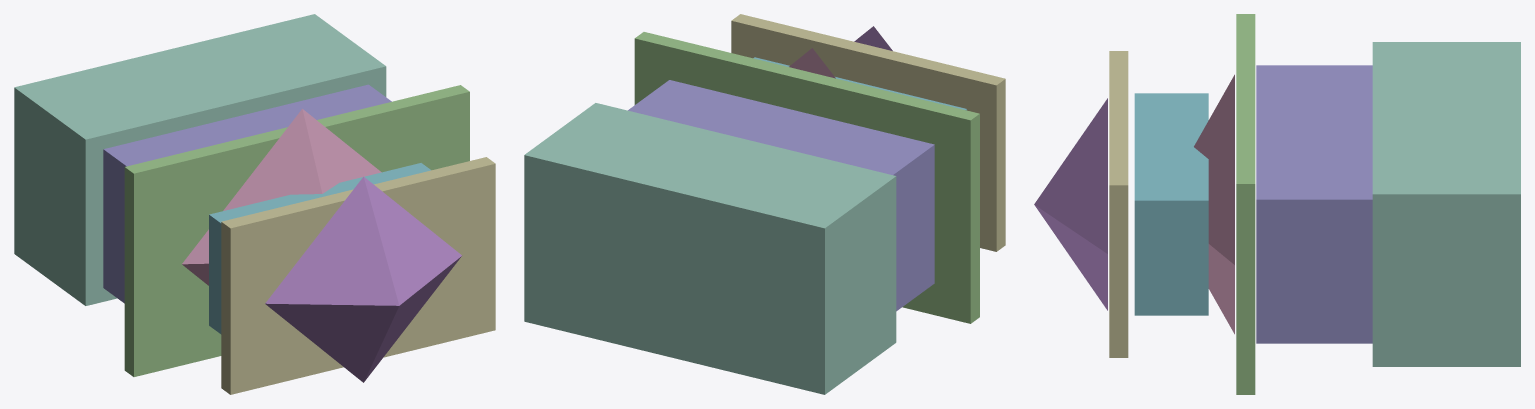
The picture shows the model from 3 angles, left to right: view 1: azimuth 30°, elevation 25°; view 2: azimuth 150°, elevation 25°; view 3: azimuth 270°, elevation 25°; orthographic projection. The views are drawn at different scales.
Parts seen in each view (by area): view 1: part0, part3, part6, part7, part2, part4, part5; view 2: part0, part3, part2, part6, part4, part7; view 3: part0, part2, part5, part7, part3, part6, part4.
Boxes of the visible parts, box(x1,y1,x2,y2) form: part0: box(14, 14, 386, 305); part3: box(124, 85, 469, 376); part6: box(221, 157, 495, 394); part7: box(265, 176, 462, 382); part2: box(103, 84, 391, 303); part4: box(182, 109, 381, 285); part5: box(209, 163, 430, 334); part0: box(524, 103, 896, 394); part3: box(634, 32, 979, 323); part2: box(628, 80, 934, 311); part6: box(731, 14, 1005, 251); part4: box(789, 48, 835, 78); part7: box(854, 26, 892, 50); part0: box(1372, 42, 1520, 366); part2: box(1256, 65, 1372, 343); part5: box(1134, 93, 1208, 315); part7: box(1034, 98, 1107, 310); part3: box(1236, 14, 1255, 394); part6: box(1109, 51, 1128, 357); part4: box(1194, 74, 1234, 334).
Bounding box in the file's own units: 3.8 × 2.73 × 4.6.
